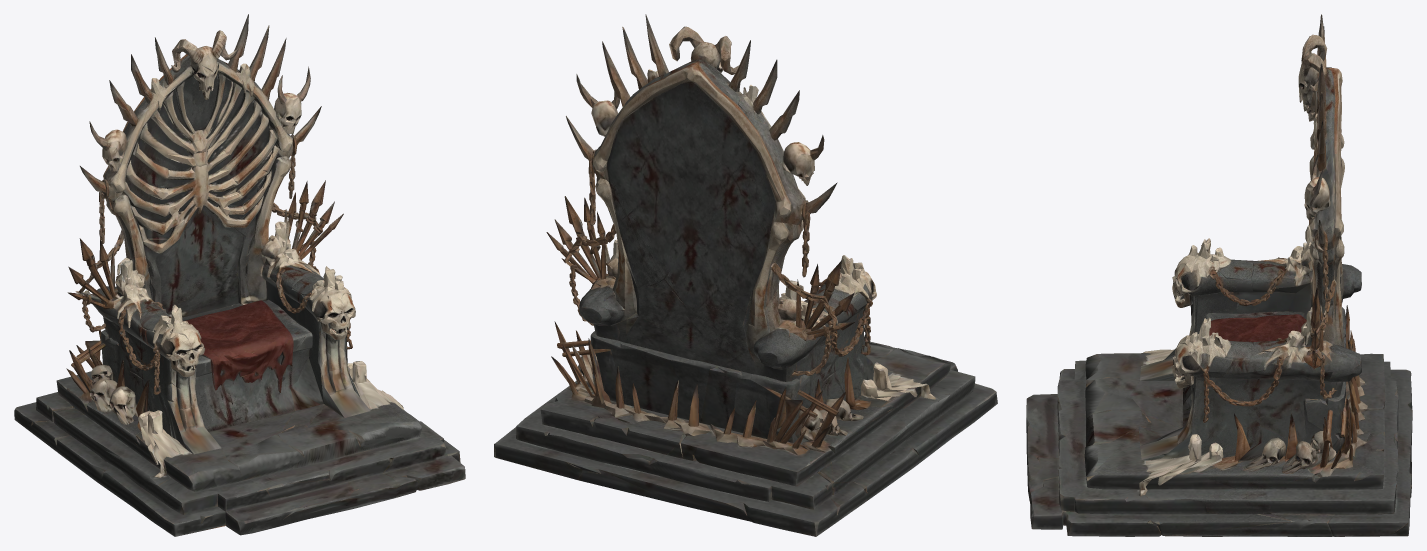
File: throne.glb
The picture shows the model from 3 angles, left to right: view 1: azimuth 30°, elevation 25°; view 2: azimuth 150°, elevation 25°; view 3: azimuth 270°, elevation 25°; orthographic projection. The views are drawn at different scales.
Visible parts, largest first — view 1: Throne; view 2: Throne; view 3: Throne.
Boxes of the visible parts, bbox=[...] form: Throne: bbox=[14, 14, 465, 536]; Throne: bbox=[494, 14, 997, 536]; Throne: bbox=[1026, 14, 1412, 536].
Size of the model in its own units: 3.25 by 4.15 by 3.43.
1 material, 1 textured.
